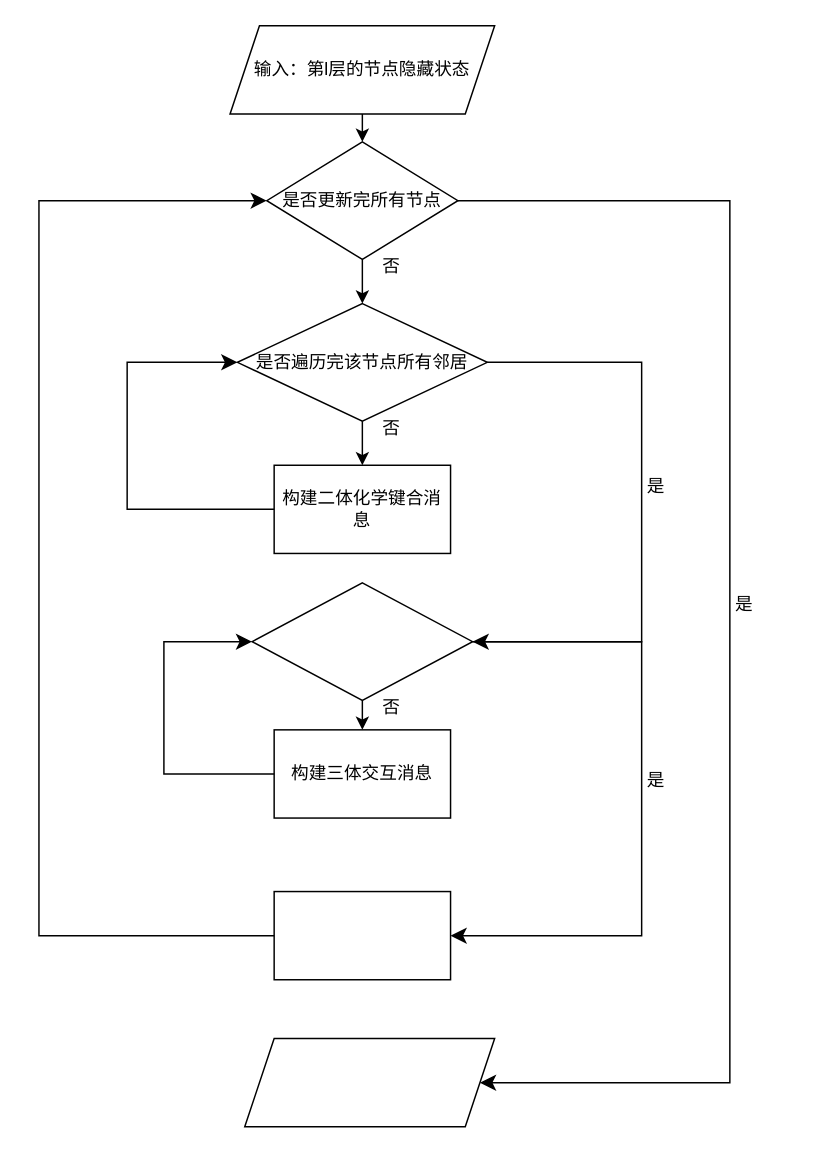
The diagram is 814 pixels wide and 1152 high, and some of its shapes have lost their labels. Here are the shapes that lost their labels. From the top down, the centre of each, then its label:
point 362,640: 是否遍历完所有邻居对
point 362,935: 汇聚局部特征对中心节点特征向量进行更新
point 369,1082: 输出：局部中间特征向量
